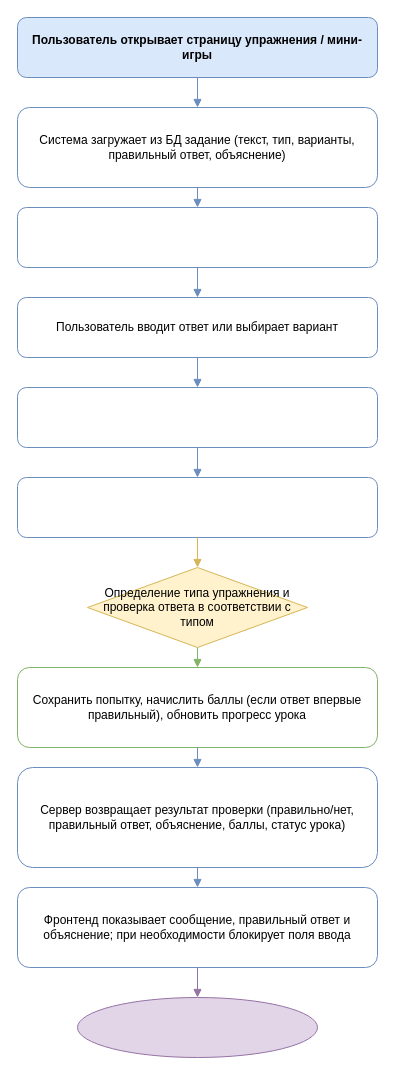
Image size: 395x1075. Some labels were removed from this diagram. The shapes that lost their labels are listed below. From the top down, each one's box as (x1, y1, x2, y2) in pixels, then its label:
(16, 206, 378, 268): Отображение задания и (если нужно) вариантов ответа на странице
(16, 386, 378, 448): Отправка ответа на сервер (AJAX-запрос)
(16, 476, 378, 538): Сервер получает ответ и находит соответствующее упражнение в БД
(76, 996, 318, 1058): Пользователь видит результат и может перейти к следующему заданию
